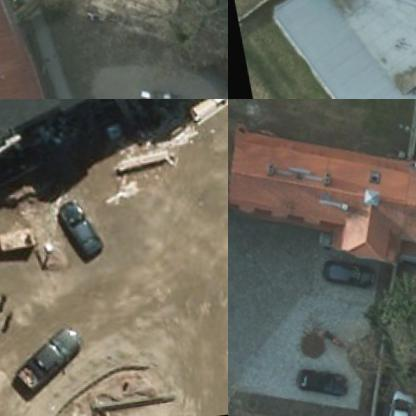car: (50, 192, 102, 260), (287, 368, 341, 404), (316, 262, 372, 294), (369, 391, 415, 415)
pickup: (3, 328, 83, 394)
